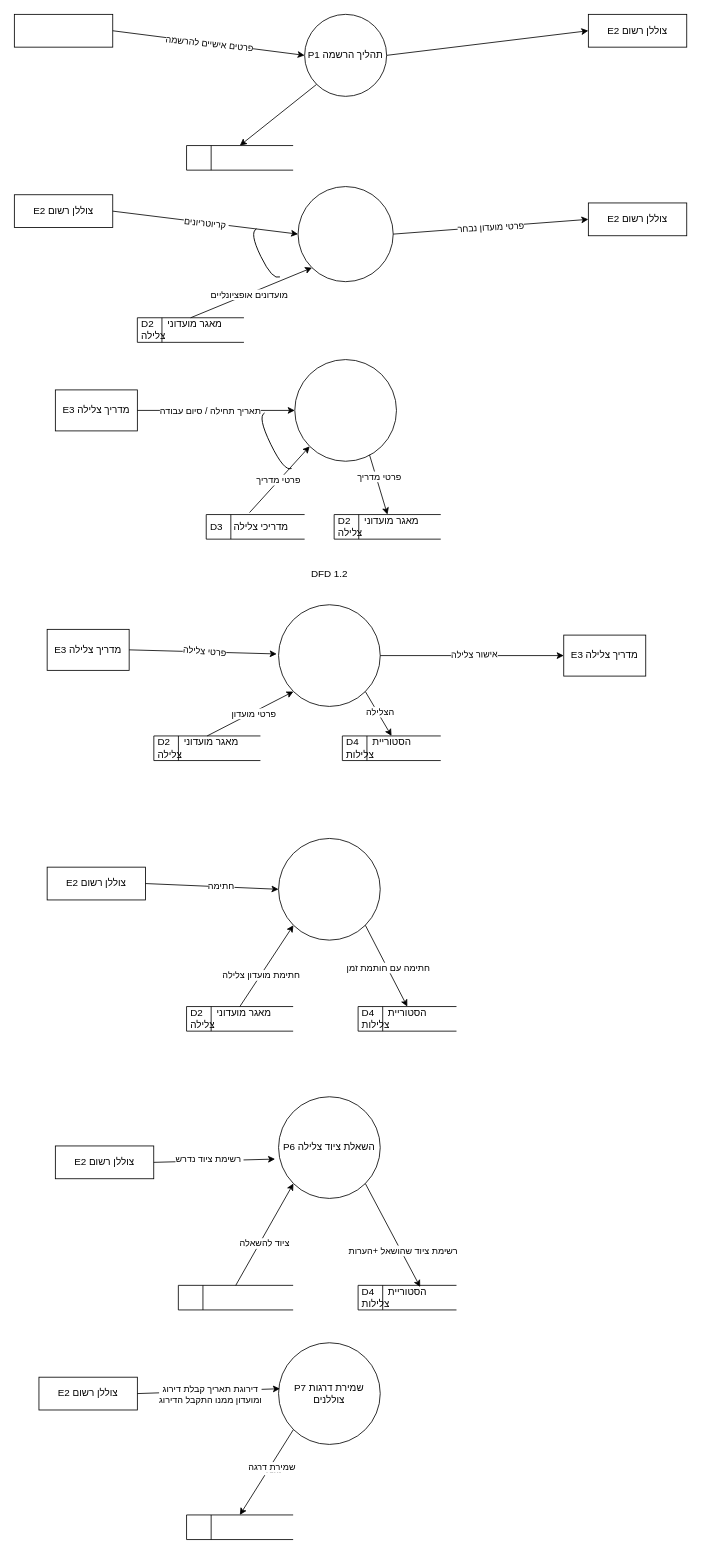
Image size: 701x1554. Some labels were removed from this diagram. The centre of each missing label's shape, as x and y in pixels:
D1 צוללנים רשומים: (239,157)
D5 רשימת ציוד להשאלה: (235,1297)
D6 דירוג צוללנים: (239,1527)
E1 צוללן חדש: (63,30)
P2 איתור מועדון צלילה: (345,234)
P3 רישום מדריך למועדון: (345,410)
P4 הרשמה לצלילה: (329,655)
P5 תהליך חתימה: (329,889)
